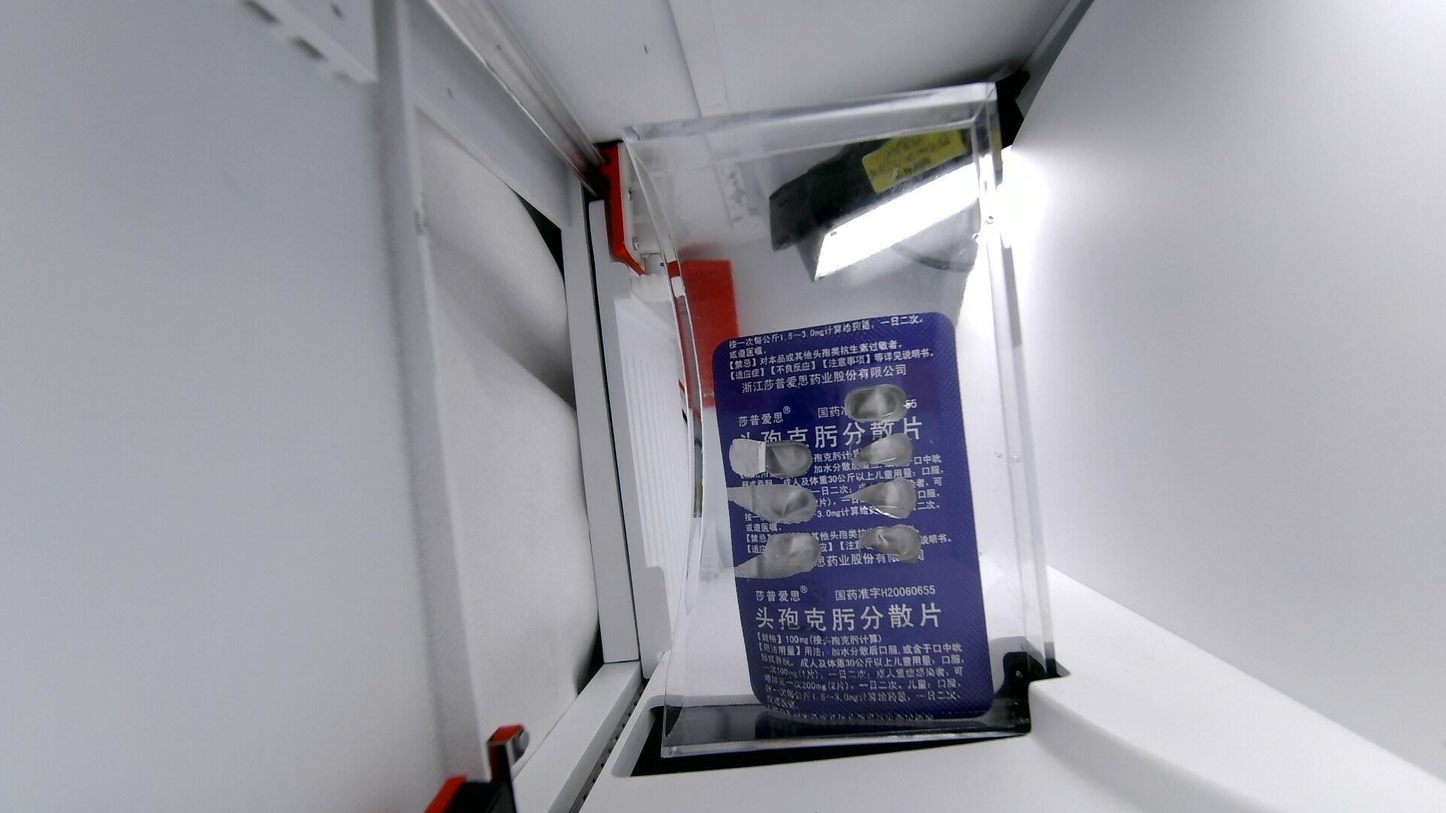No Pill Back: (836, 379, 914, 428), (731, 434, 814, 475), (841, 439, 926, 478), (743, 483, 821, 525), (740, 530, 825, 568), (843, 528, 932, 558), (843, 489, 933, 516)
Pill Back: (730, 381, 823, 427), (871, 629, 954, 672), (856, 577, 944, 617), (763, 644, 847, 683), (756, 588, 834, 627)
